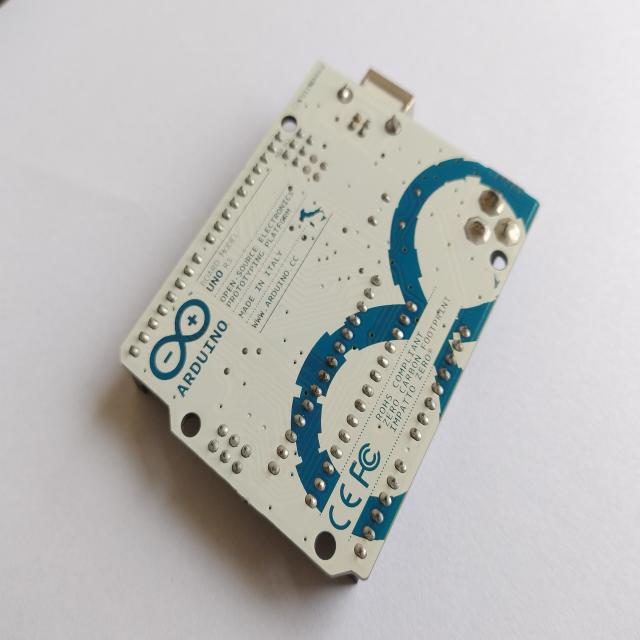arduino: (116, 42, 545, 589)
